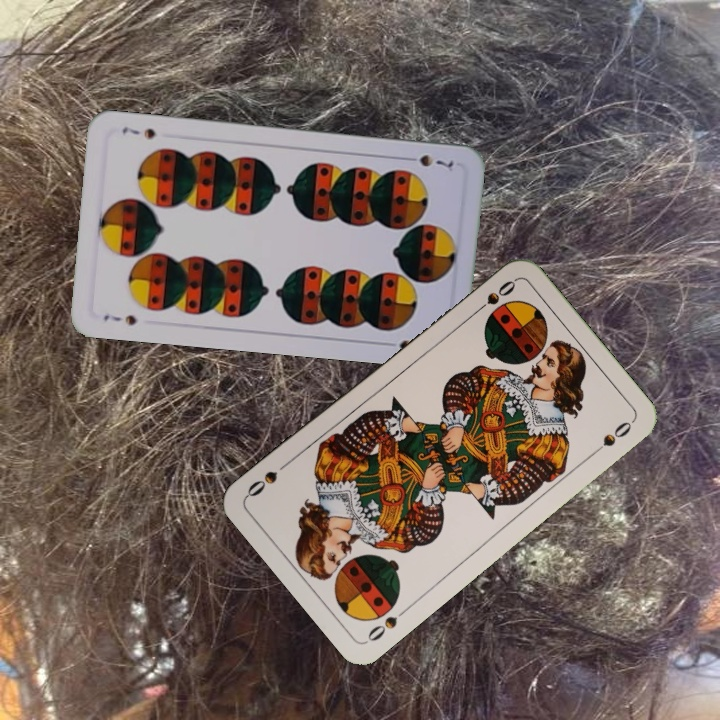S7: (400, 150, 456, 171), (99, 310, 140, 328)
SO: (468, 276, 519, 318), (363, 603, 412, 644)
